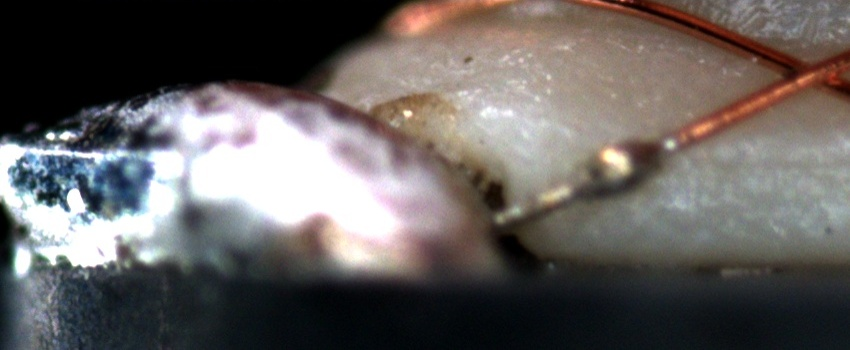CL: (762, 47, 841, 100)
DL: (686, 132, 850, 196)
TB: (576, 135, 665, 200)
TS: (490, 134, 674, 228)
TTCW: (487, 109, 718, 228)
